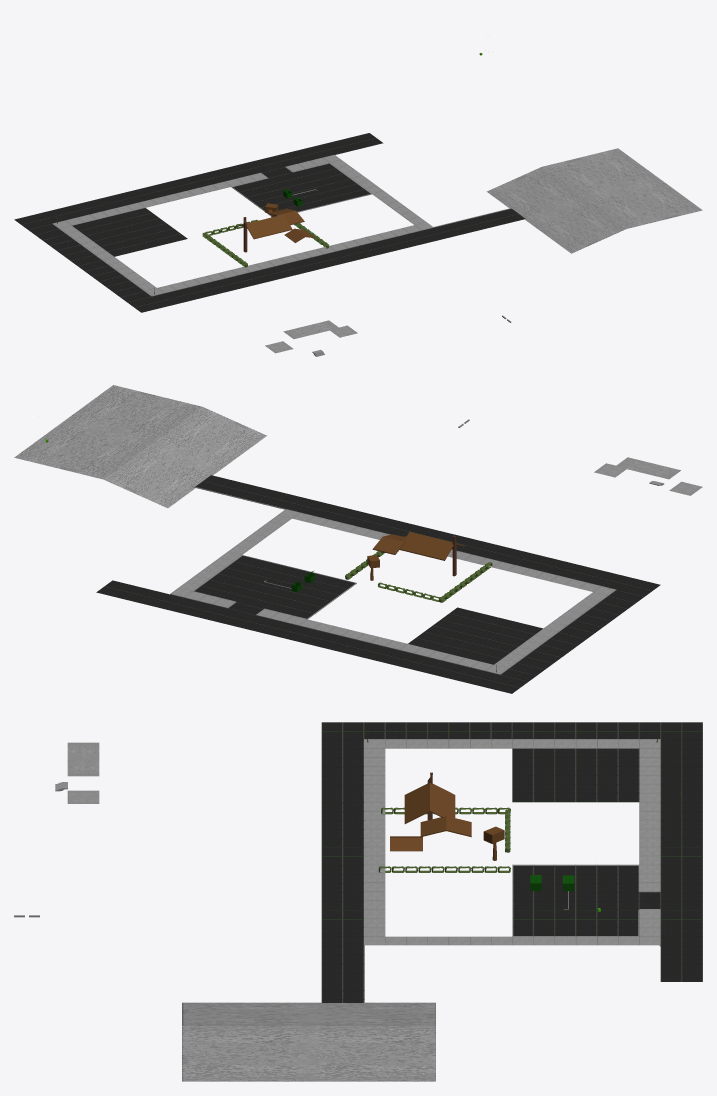
File: object_6_lev3.glb
3 views of the same model, one above another, from view 1: azimuth 30°, elevation 25°; view 2: azimuth 150°, elevation 25°; view 3: azimuth 270°, elevation 25° (orthographic). The views are drawn at different scales.
Parts seen in each view (by area): view 1: object_6_lev3; view 2: object_6_lev3; view 3: object_6_lev3.
Boxes of the visible parts, x1,y1,x2,y2 form: object_6_lev3: [14, 53, 702, 356]; object_6_lev3: [14, 385, 702, 693]; object_6_lev3: [14, 722, 702, 1081].
Size of the model in its own units: 89.5 by 20.58 by 69.32.
Materials: 1 (1 with a texture image).
